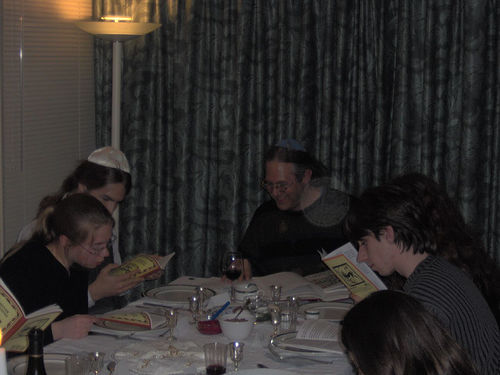without_mask: (351, 202, 425, 278), (61, 211, 116, 271), (262, 152, 315, 211)
